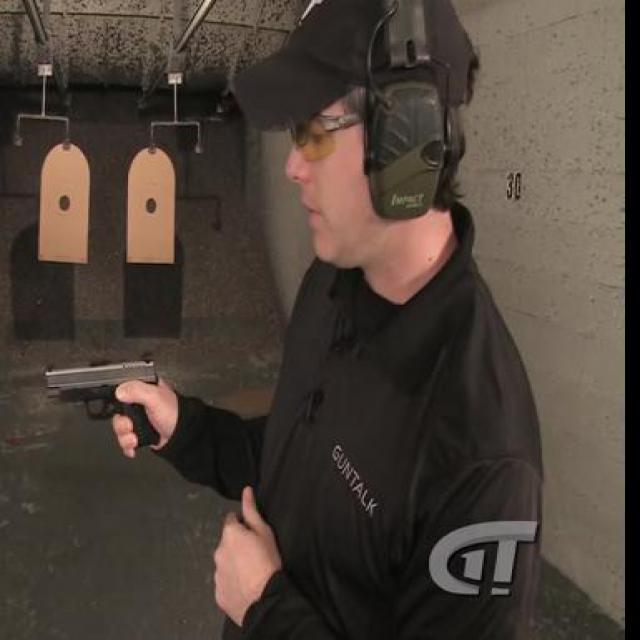gun: (39, 352, 162, 452)
